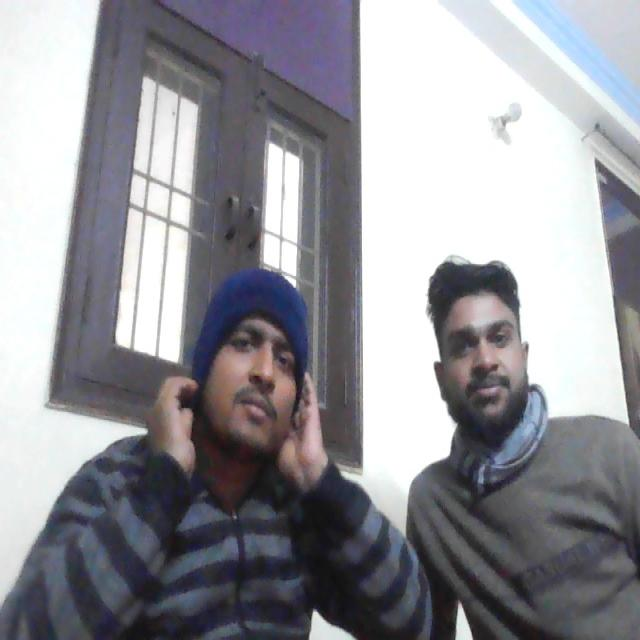real: (194, 251, 310, 469), (432, 251, 532, 440)
